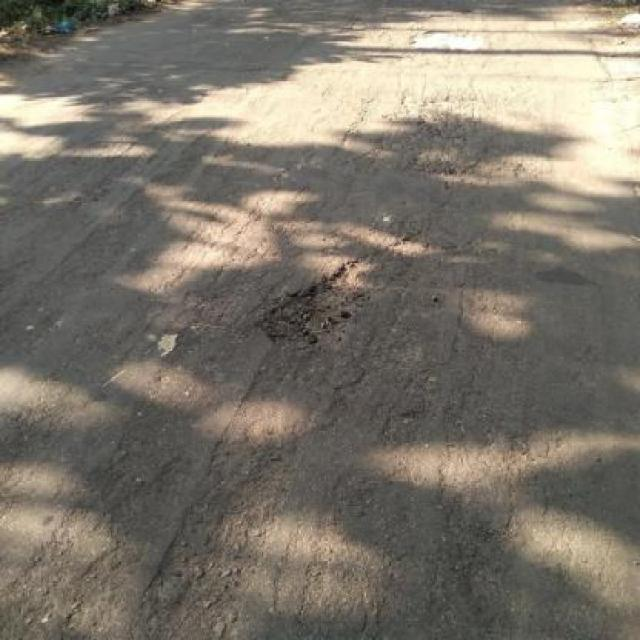Pothole: (252, 258, 371, 354)
